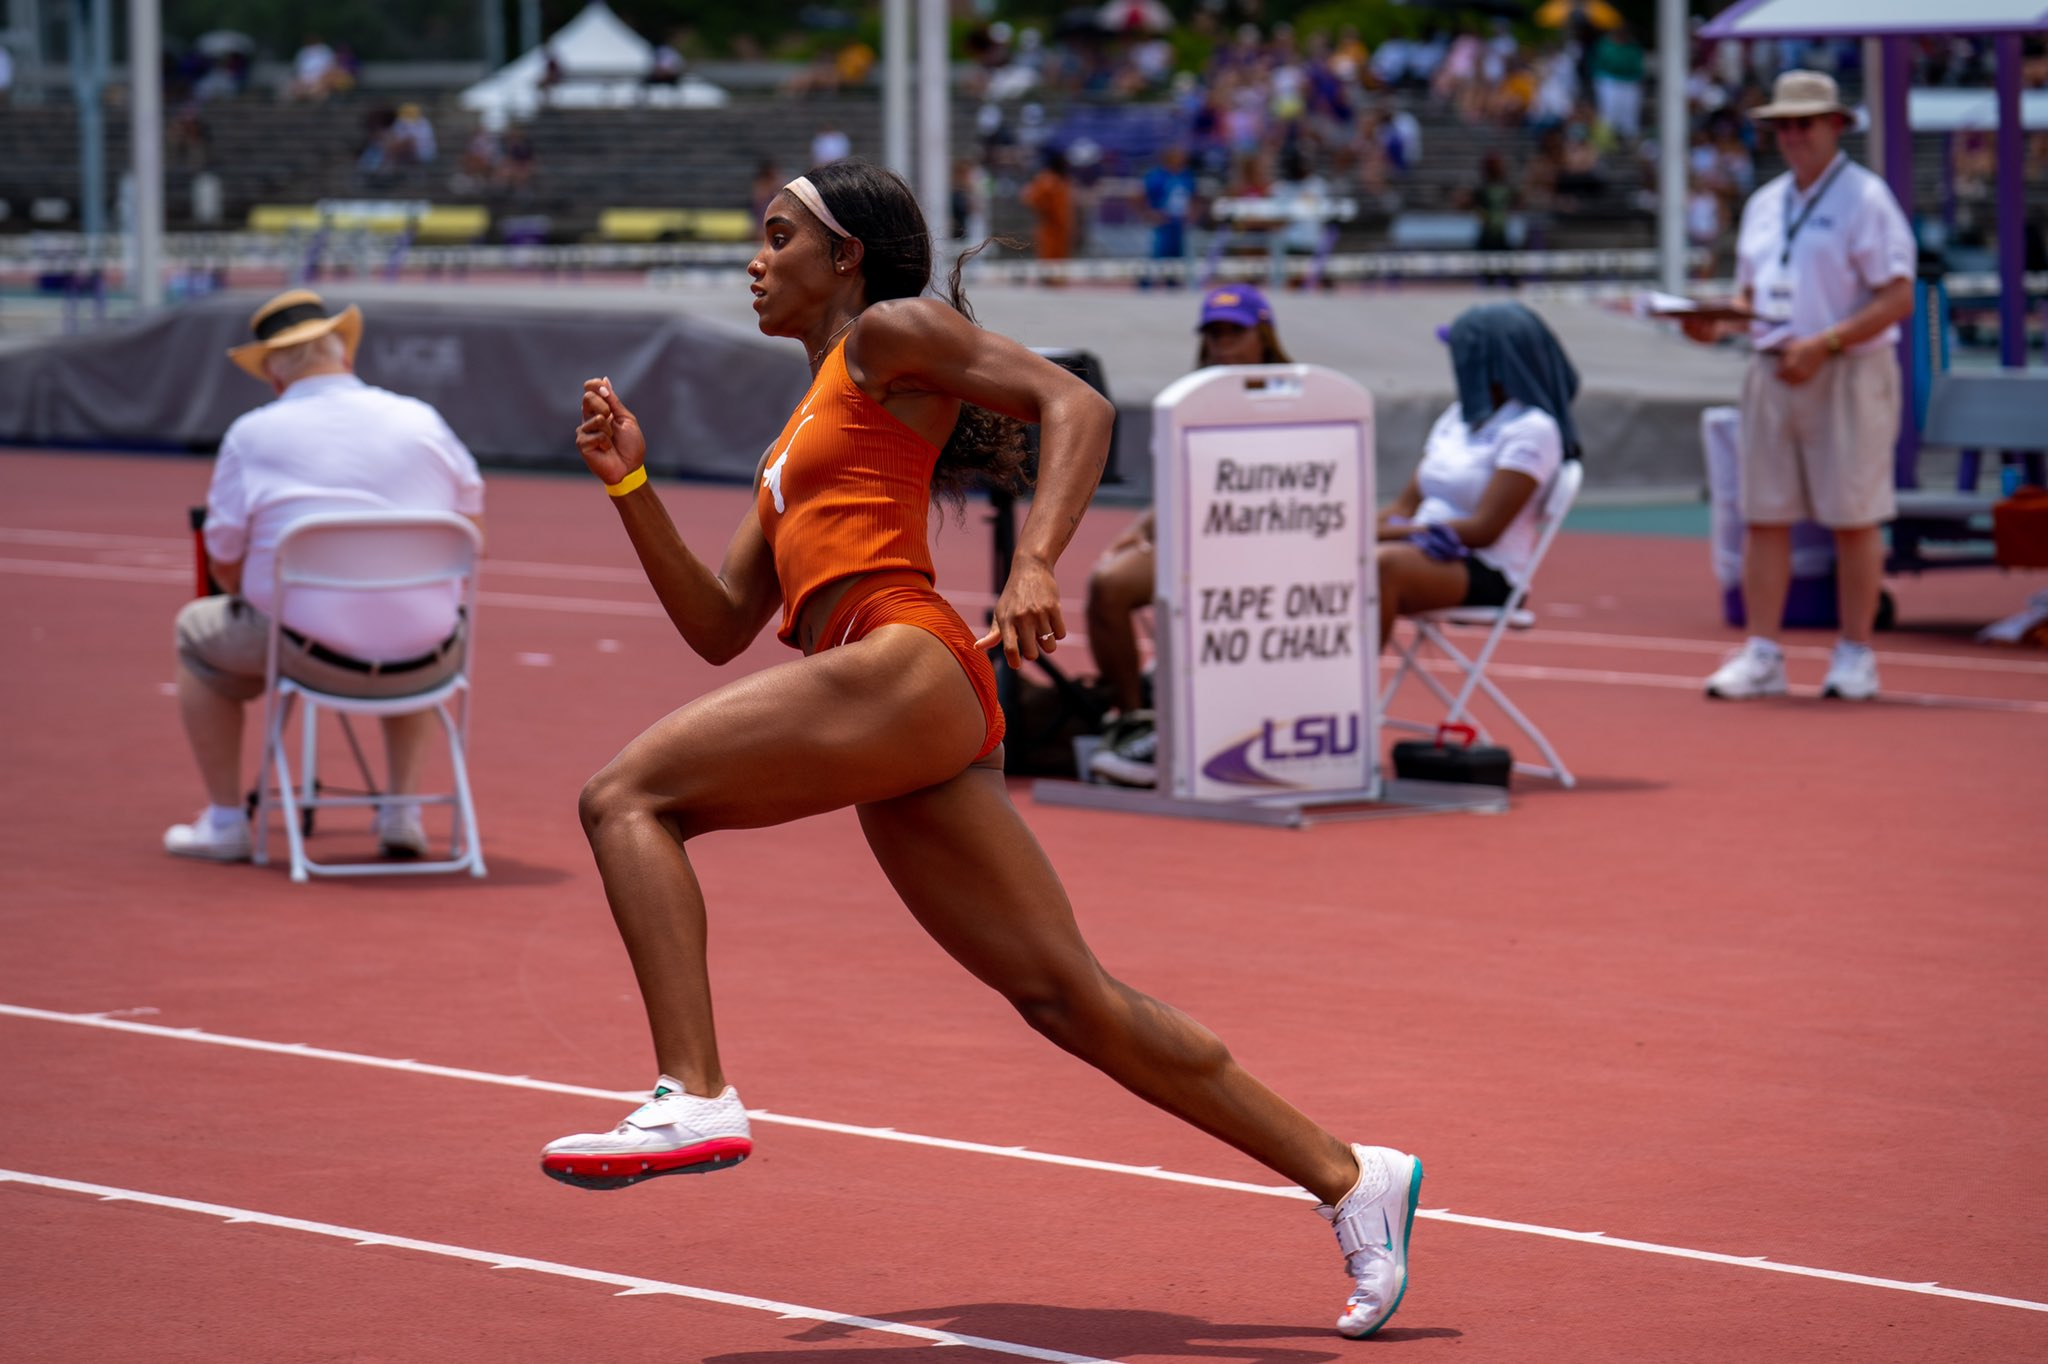runner: (526, 155, 1450, 1341)
